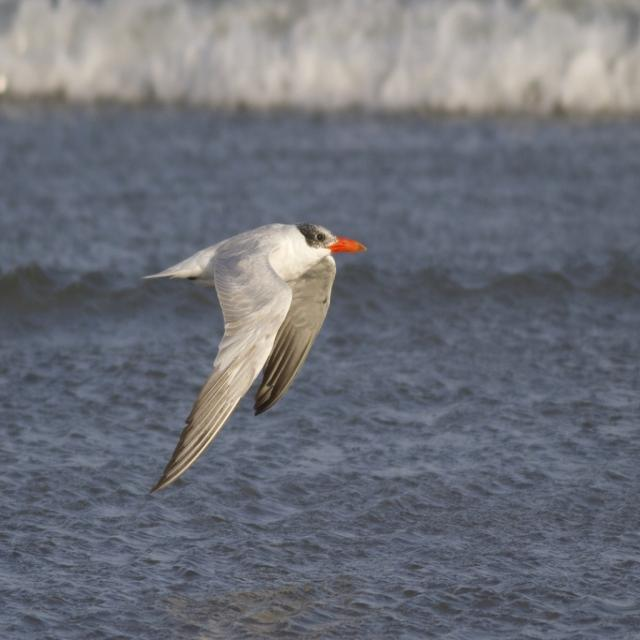bird: (128, 204, 376, 512)
